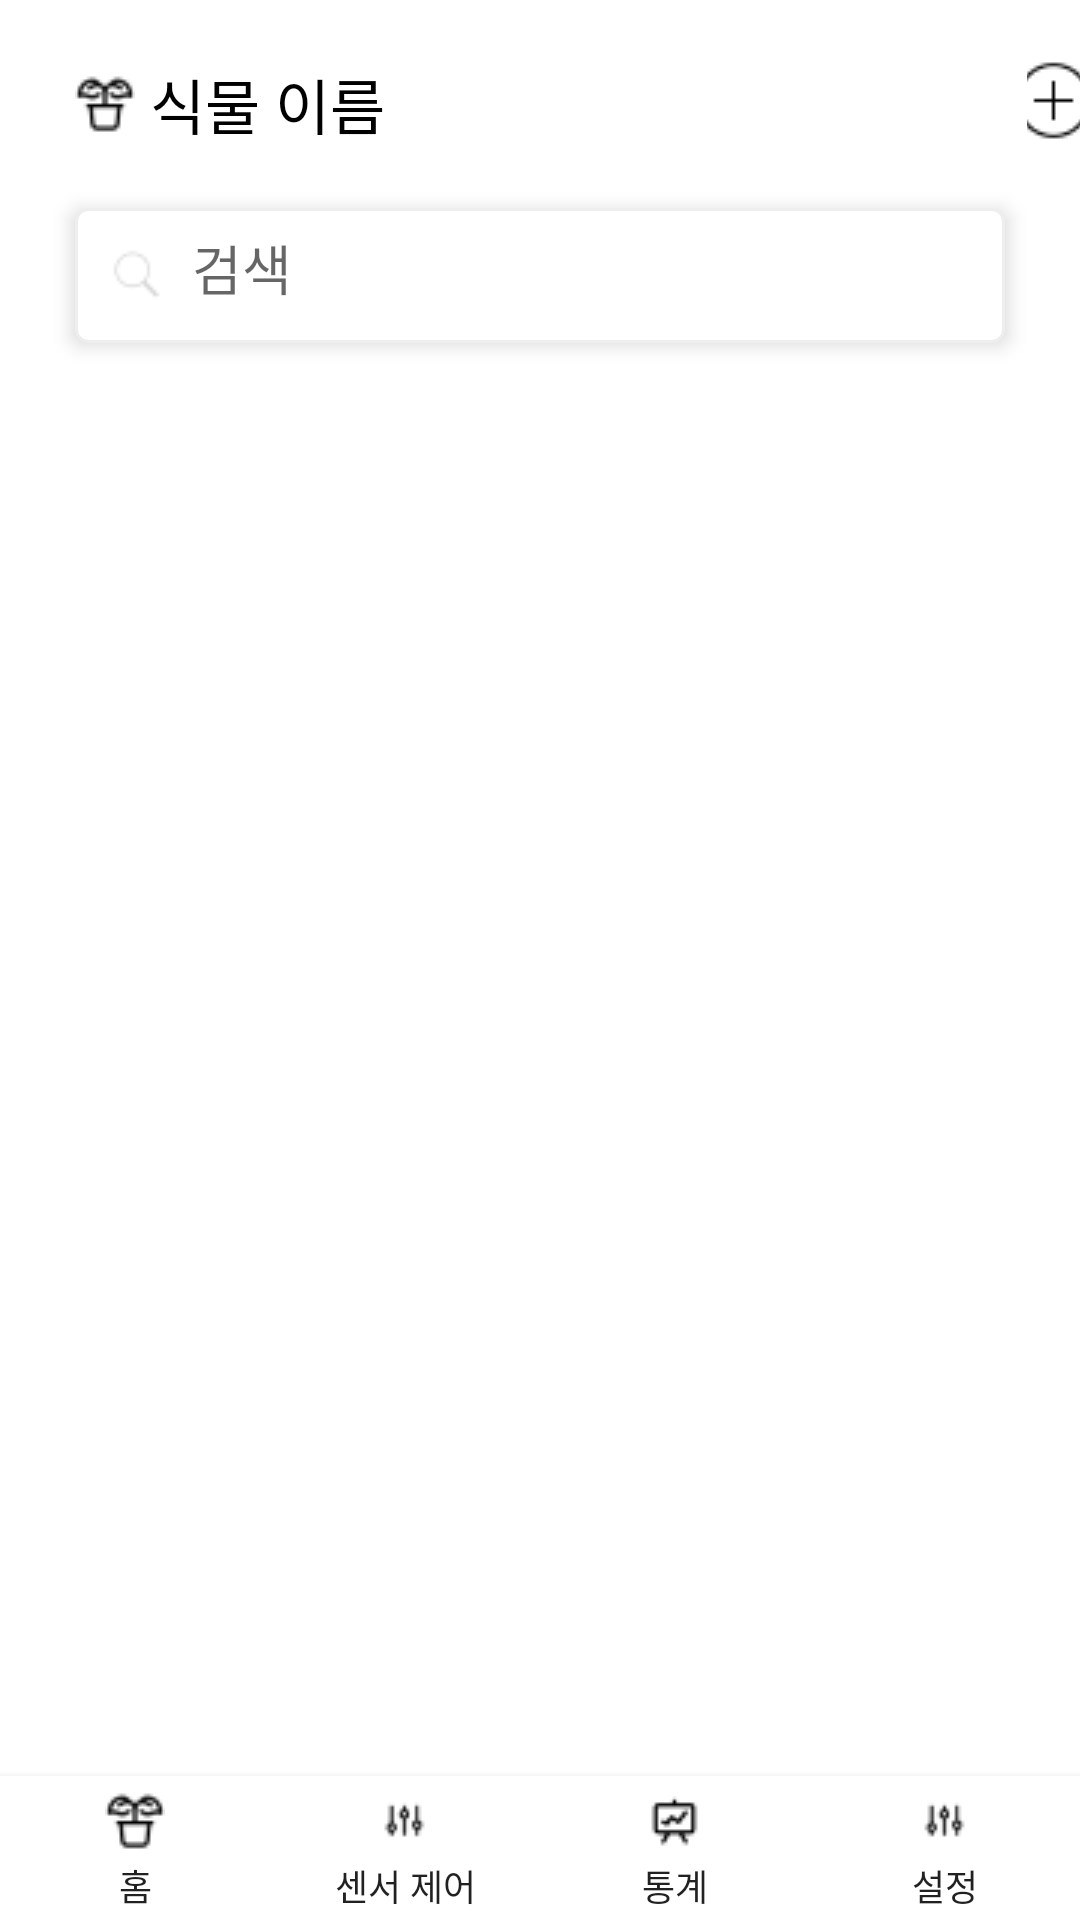

Screen size 1080 x 1920. Icon name, then its center in pixels as [x,y]:
sensor add: [1053,100]
